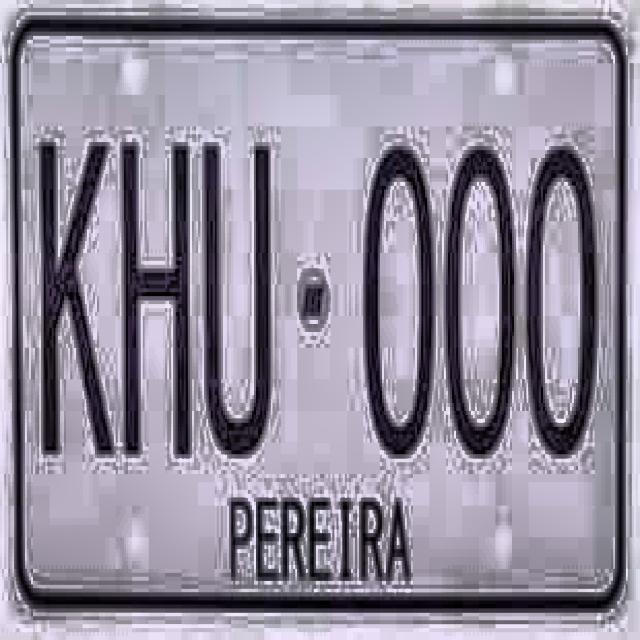plate: (23, 27, 622, 600)
